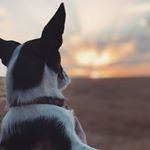puppy: (1, 1, 91, 148)
